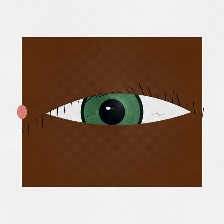pinguecula_lesion: (28, 85, 74, 122)
